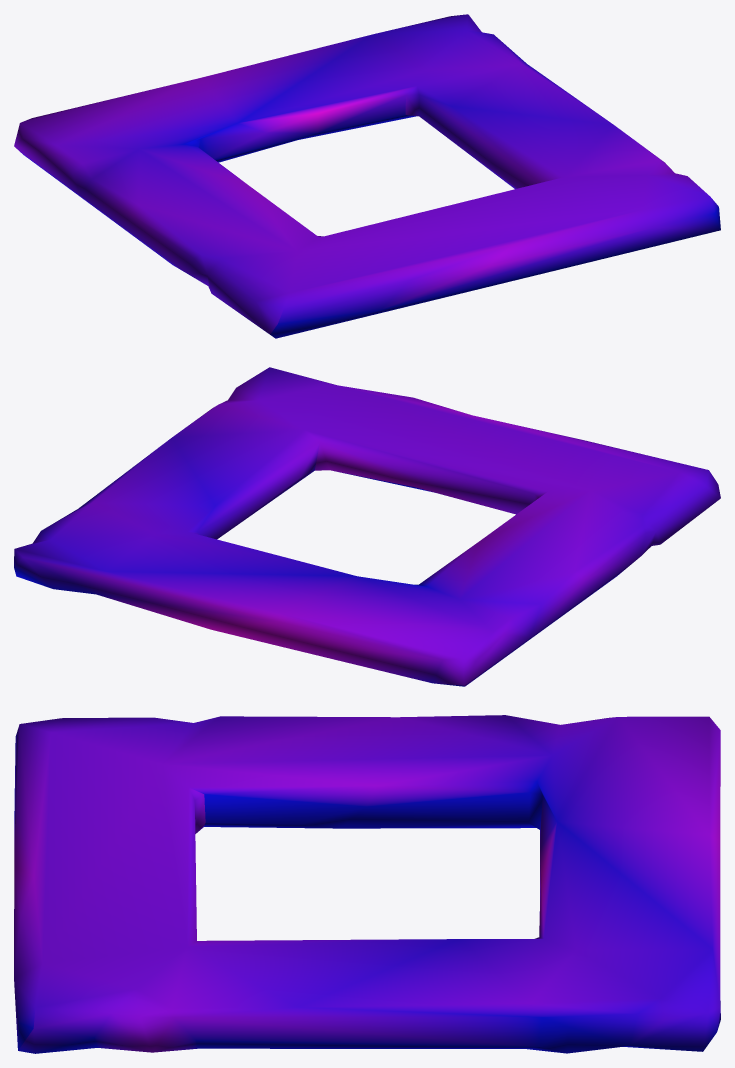
Rendered from SM_Floor_Tile_Hole_A.FBX.
3 views of the same model, one above another, from view 1: azimuth 30°, elevation 25°; view 2: azimuth 150°, elevation 25°; view 3: azimuth 270°, elevation 25° (orthographic). The views are drawn at different scales.
Parts seen in each view (by area): view 1: SM_Floor_Tile_Hole_A; view 2: SM_Floor_Tile_Hole_A; view 3: SM_Floor_Tile_Hole_A.
Boxes of the visible parts, x1,y1,x2,y2 form: SM_Floor_Tile_Hole_A: (14, 14, 720, 338); SM_Floor_Tile_Hole_A: (14, 367, 720, 686); SM_Floor_Tile_Hole_A: (14, 715, 720, 1053).
Size of what is drawn, in the model's own units: 201 by 200 by 13.59.
